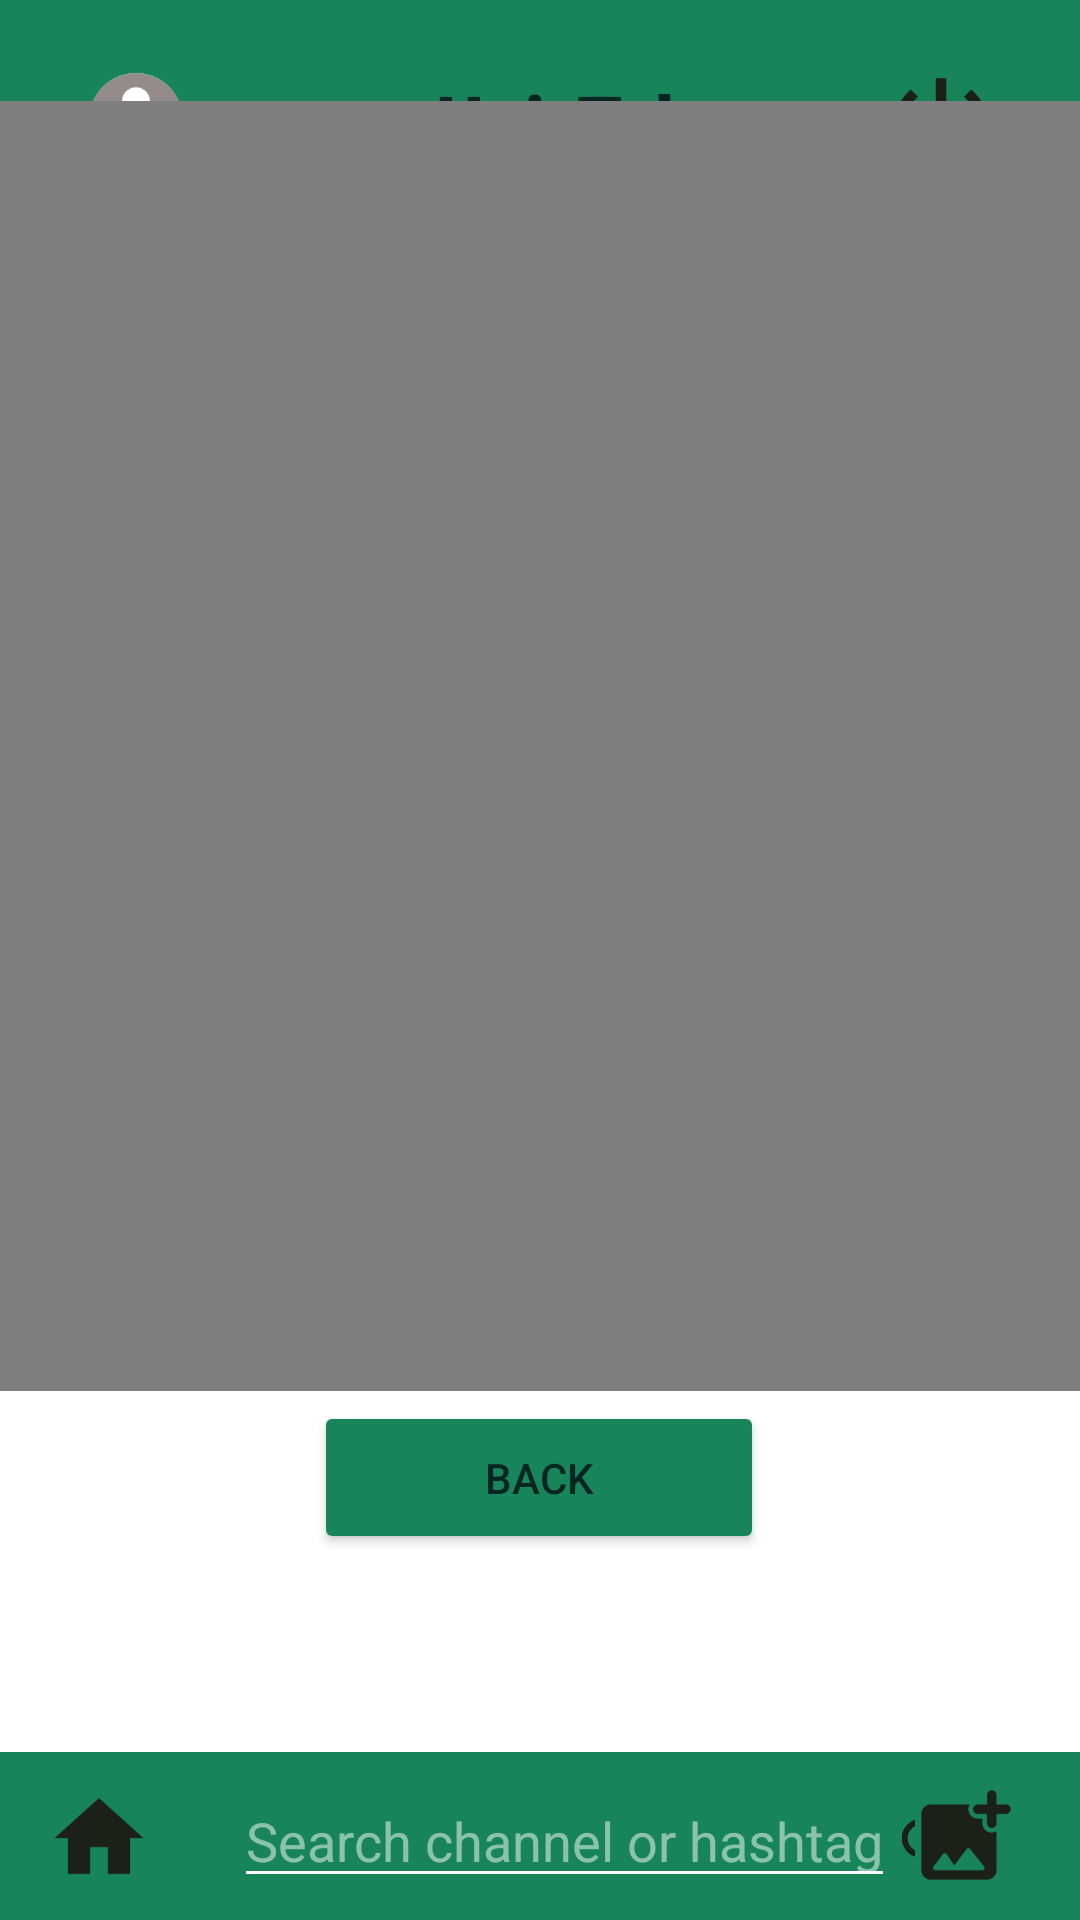

Named icons in this screenshot (1080x1920) and their bounding boxes, (x1, y1, x2, y2):
home page: (55, 1798, 143, 1874)
